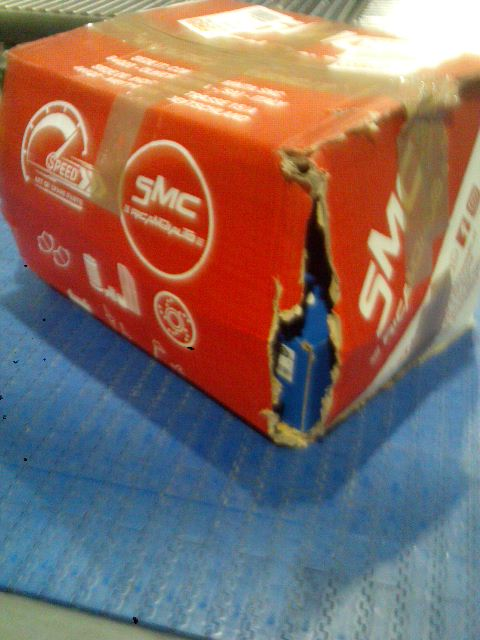package: (0, 0, 480, 455)
